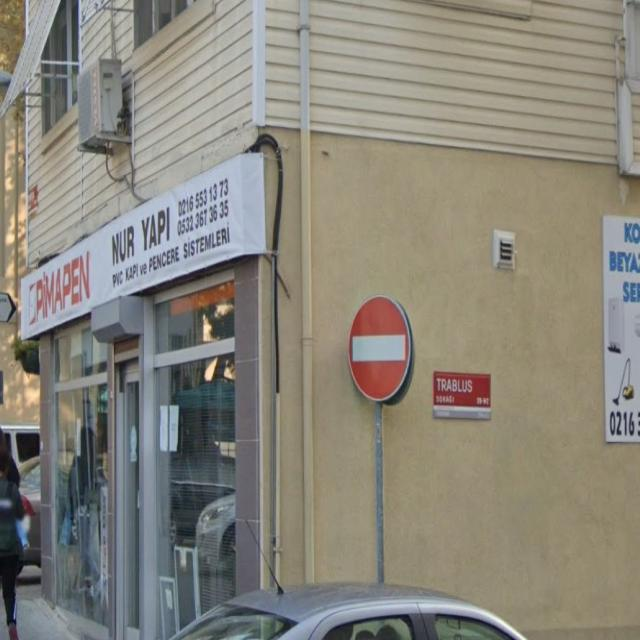girisyok: (348, 295, 409, 400)
